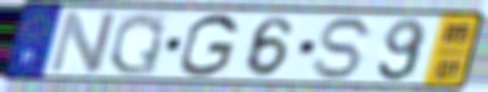6: (244, 15, 298, 79)
9: (374, 15, 429, 84)
G: (176, 12, 242, 80)
N: (45, 9, 120, 76)
Q: (105, 10, 168, 77)
S: (309, 15, 379, 82)
